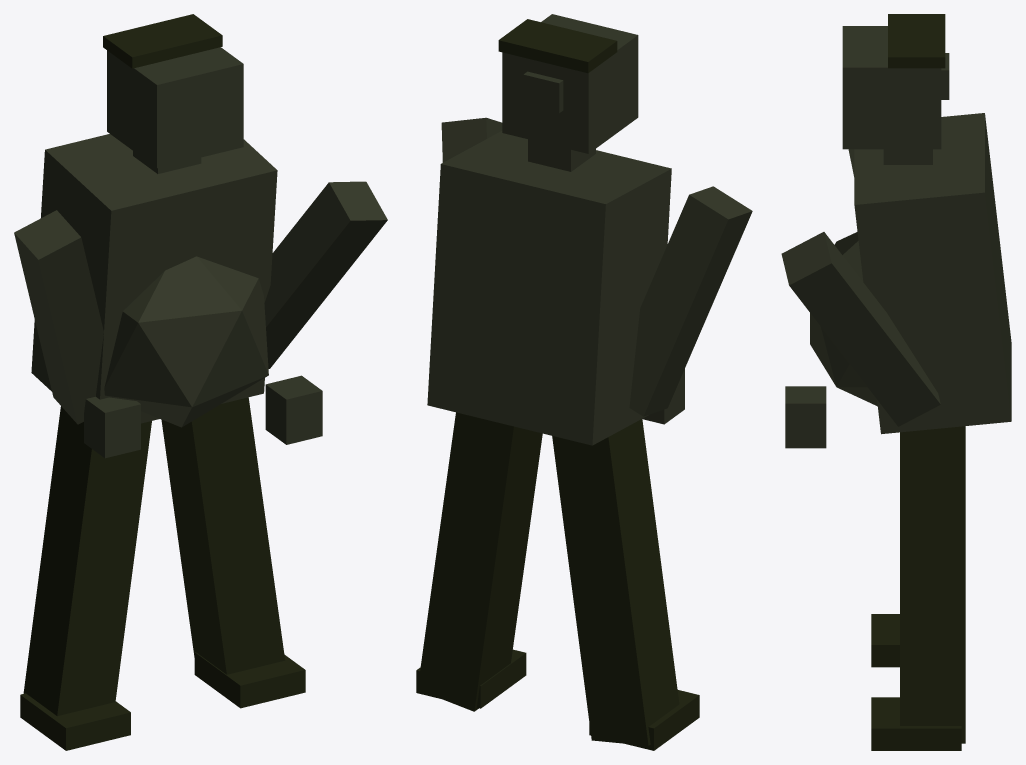
File: SM_Zombi_v17_Gordo_LOD1.fbx
The picture shows the model from 3 angles, left to right: view 1: azimuth 30°, elevation 25°; view 2: azimuth 150°, elevation 25°; view 3: azimuth 270°, elevation 25°; orthographic projection.
Parts seen in each view (by area): view 1: SM_zombi_fino_v17_LOD1; view 2: SM_zombi_fino_v17_LOD1; view 3: SM_zombi_fino_v17_LOD1.
Boxes of the visible parts, box(x1,y1,x2,y2) form: SM_zombi_fino_v17_LOD1: box(14, 14, 387, 750); SM_zombi_fino_v17_LOD1: box(416, 14, 752, 750); SM_zombi_fino_v17_LOD1: box(781, 14, 1011, 750).
Bounding box in the file's own units: 0.8872 × 1.78 × 0.5609.
